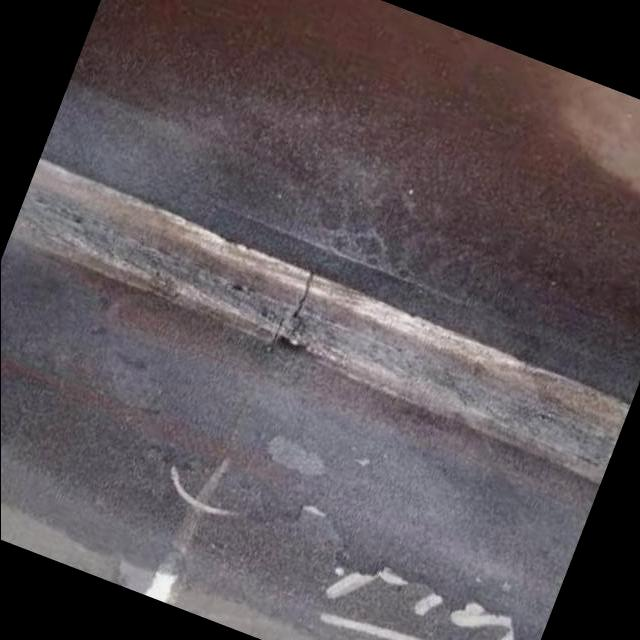defect: (289, 269, 320, 322)
